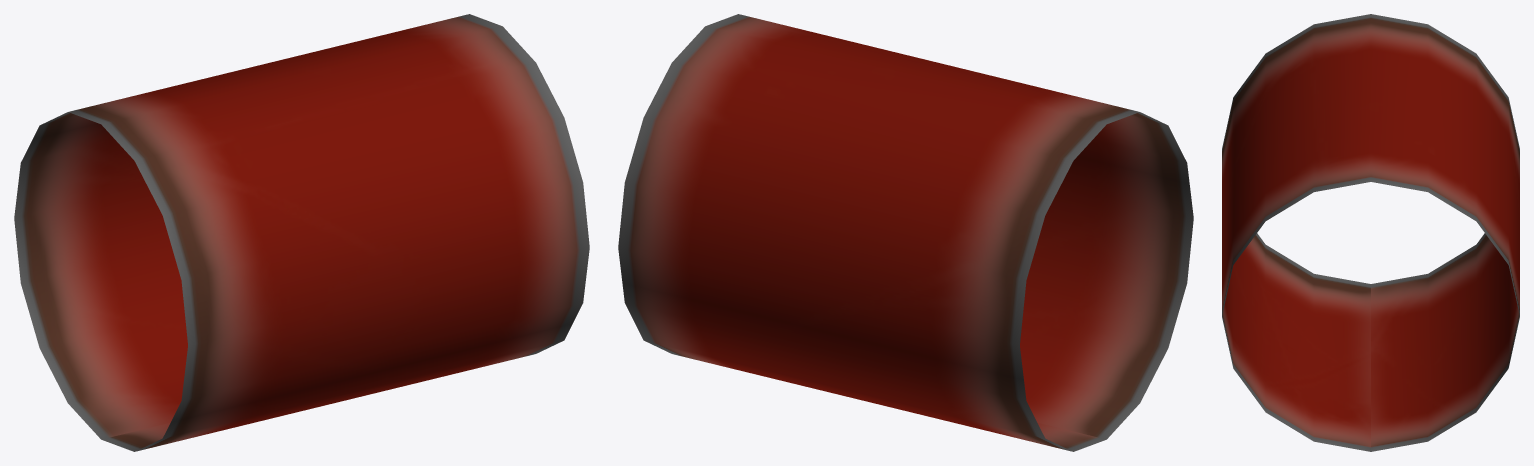
File: pipe01_str_16a.fbx
3 renders of one model, left to right at view 1: azimuth 30°, elevation 25°; view 2: azimuth 150°, elevation 25°; view 3: azimuth 270°, elevation 25°, orthographic. The views are drawn at different scales.
Visible parts, largest first — view 1: pipe01_str_16a; view 2: pipe01_str_16a; view 3: pipe01_str_16a.
Part boxes in pixels (bbox=[...]): pipe01_str_16a: bbox=[14, 14, 589, 451]; pipe01_str_16a: bbox=[618, 14, 1193, 451]; pipe01_str_16a: bbox=[1222, 14, 1519, 451].
Bounding box in the file's own units: 16 × 12 × 12.
